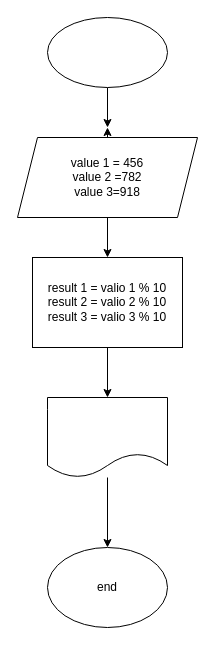
The diagram is 215 pixels wide and 645 high, and some of its shapes have lost their labels. Here are the shapes that lost their labels. From the top down, the centre of each, then its label:
At (107,52): "start".
At (107,437): "result 1 result 2 result 3".
